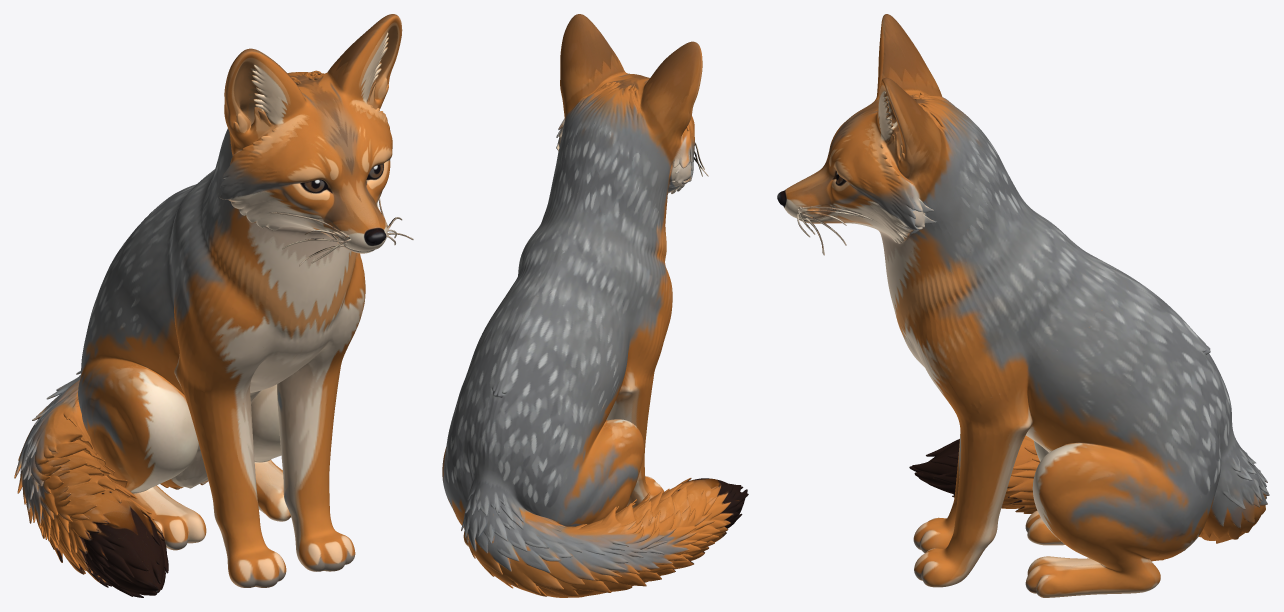
The model's file is zorro.glb.
3 views of the same model, side by side, from view 1: azimuth 30°, elevation 25°; view 2: azimuth 150°, elevation 25°; view 3: azimuth 270°, elevation 25° (orthographic). The views are drawn at different scales.
Size of the model in its own units: 0.0526 by 0.1 by 0.0866.
1 material, 1 textured.
